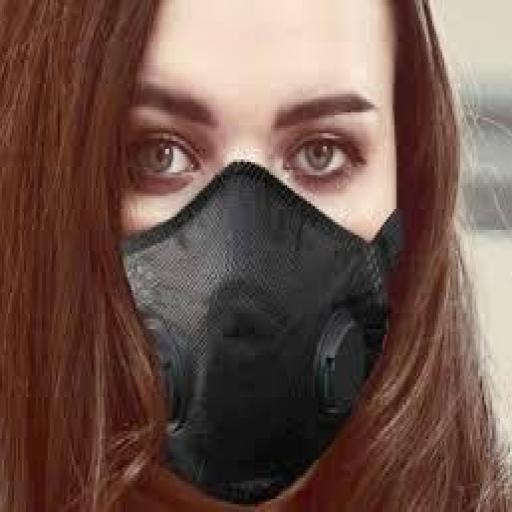mask: (89, 42, 421, 512)
